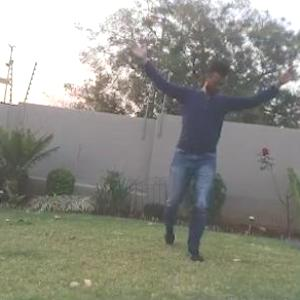takeoff: (129, 39, 295, 254)
